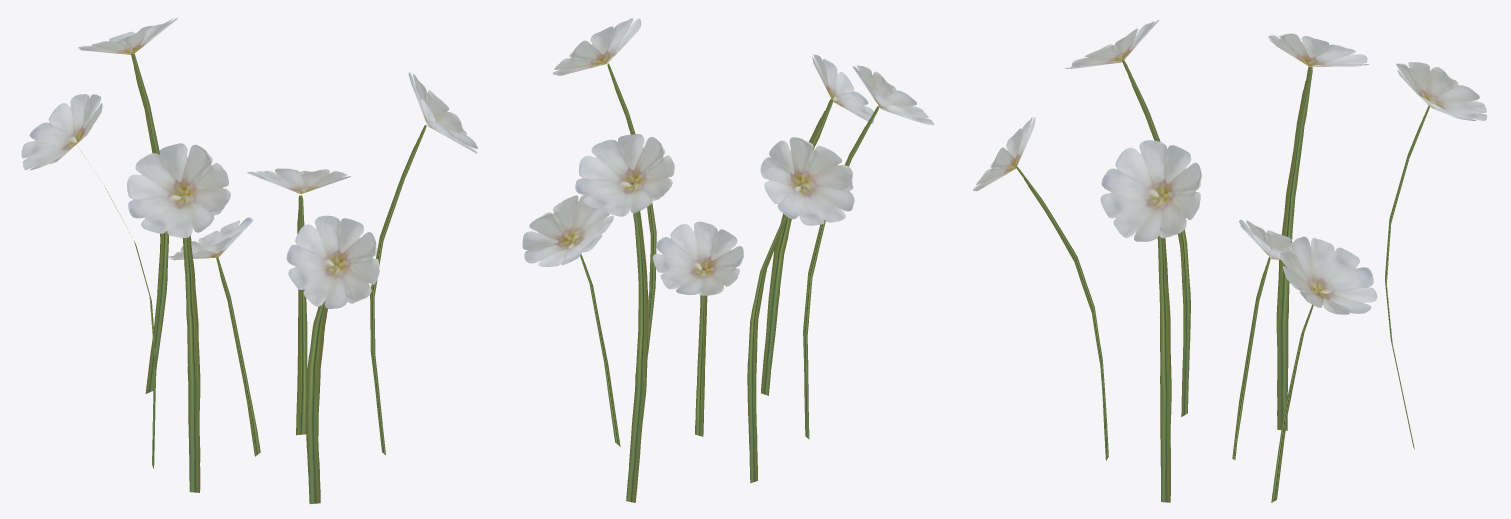
File: SM_Ground_White2_Flower_A.fbx
The picture shows the model from 3 angles, left to right: view 1: azimuth 30°, elevation 25°; view 2: azimuth 150°, elevation 25°; view 3: azimuth 270°, elevation 25°; orthographic projection. The views are drawn at different scales.
Parts seen in each view (by area): view 1: SM_Ground_White2_Flower_A_LOD0; view 2: SM_Ground_White2_Flower_A_LOD0; view 3: SM_Ground_White2_Flower_A_LOD0.
Boxes of the visible parts, x1,y1,x2,y2 form: SM_Ground_White2_Flower_A_LOD0: (21,17,477,503); SM_Ground_White2_Flower_A_LOD0: (522,18,933,502); SM_Ground_White2_Flower_A_LOD0: (973,20,1486,502).
Bounding box in the file's own units: 36.28 × 42.78 × 35.3.
Materials: 1 (1 with a texture image).
